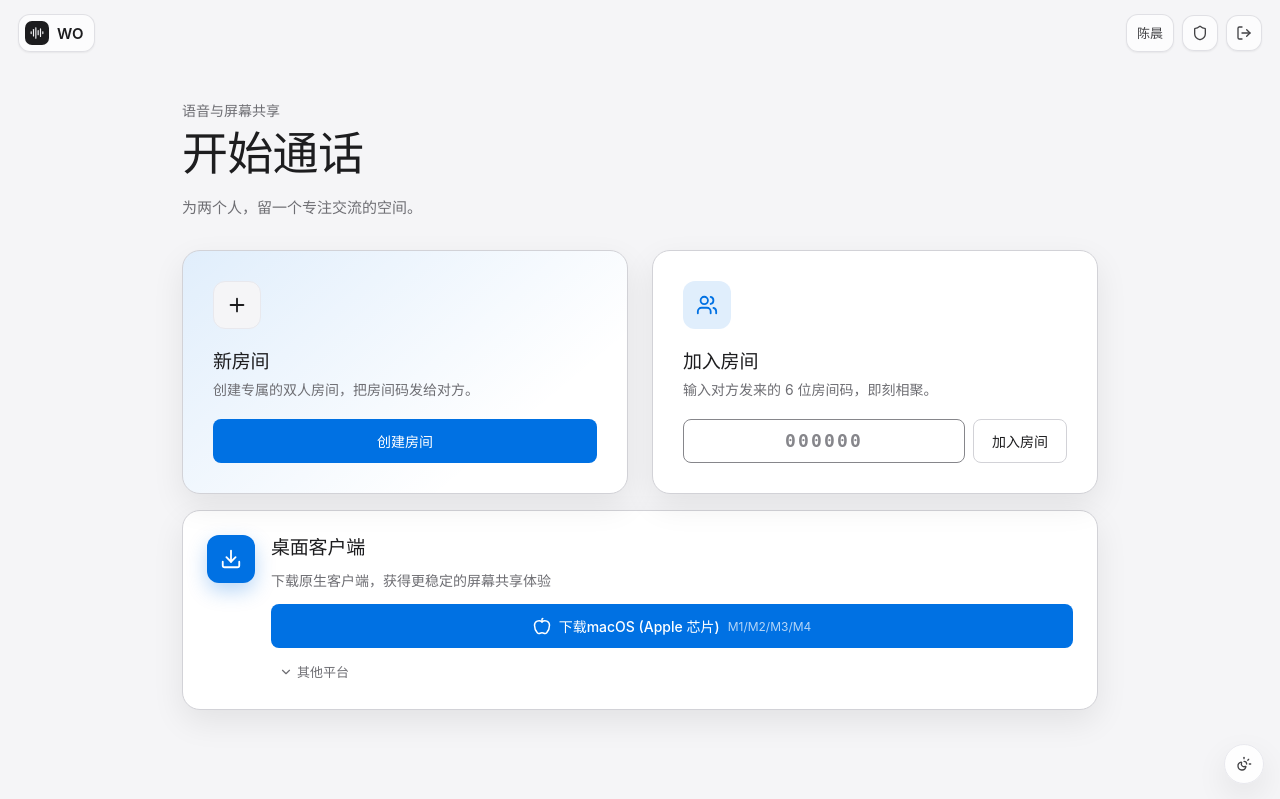
Scenario: desktop account and room workflow › creates a room, shows the waiting state, and keeps two participant slots
The width and height of the screenshot is (1280, 799).
Expected: the 1st heading named "开始通话" is shown, [182,125,363,181]
Click the 1st button named "创建房间" at point(405, 441), box [213,419,597,463]
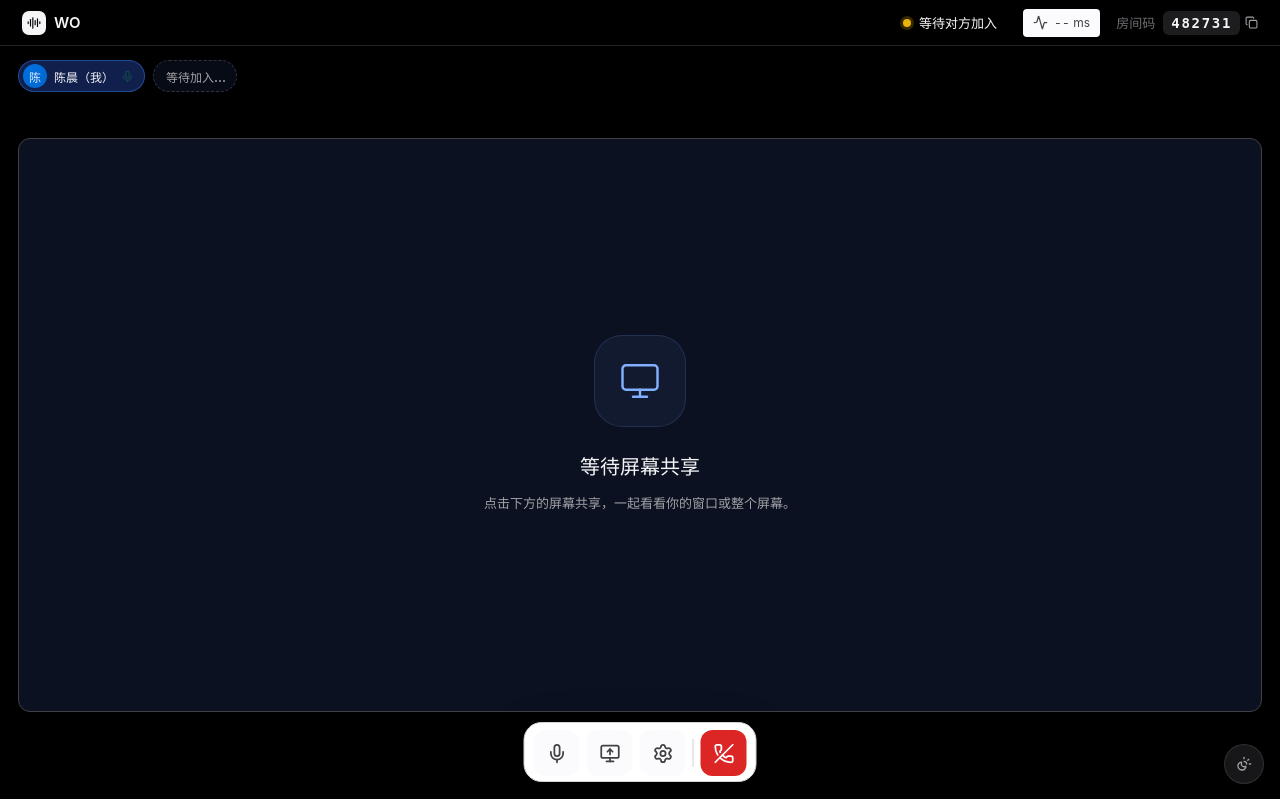
Now the 2nd text "等待对方加入" is shown, box [919,15,997,31]
Now the text "482731" is shown, box [1163,10,1240,34]
Now the number of elements with test id "participant-slot" is 1, box [18,60,145,92]
